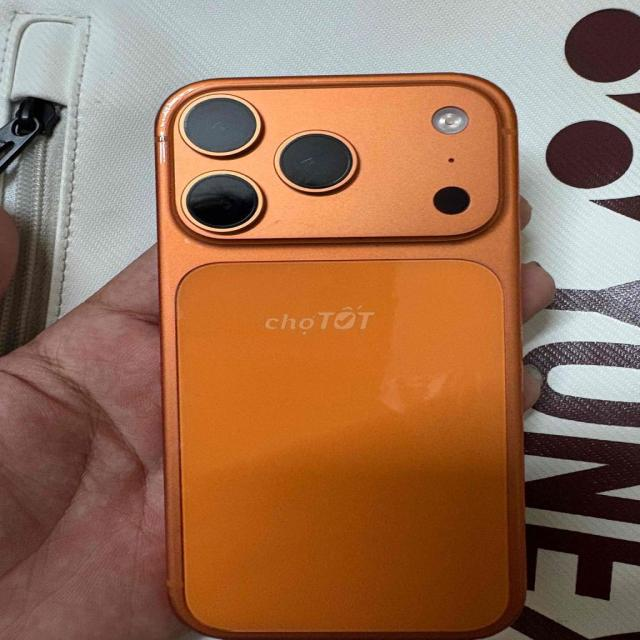gen_17: (136, 60, 540, 640)
